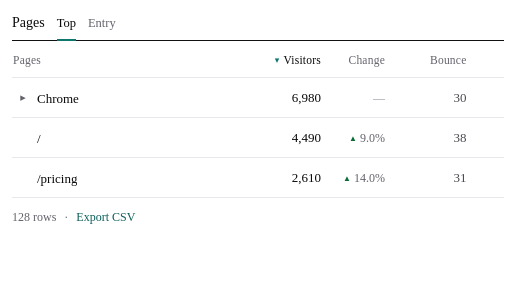
DataTable › expands sub-rows with a prefixed name and shows deltas when compare is on
This screenshot has width=521, height=281.
Click the button named "Expand Chrome" at (23, 98), box [13,88,33,108]
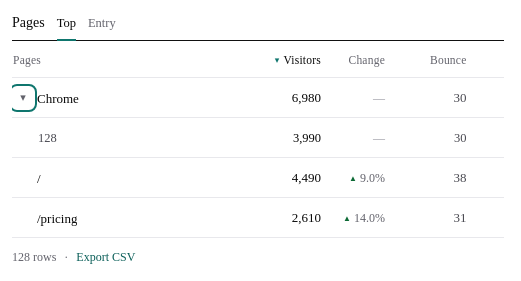
Expected: the text "9.0%" is shown, [360,171,385,185]
Now the button named "Chrome, version 128" is shown, box [38,129,57,148]
